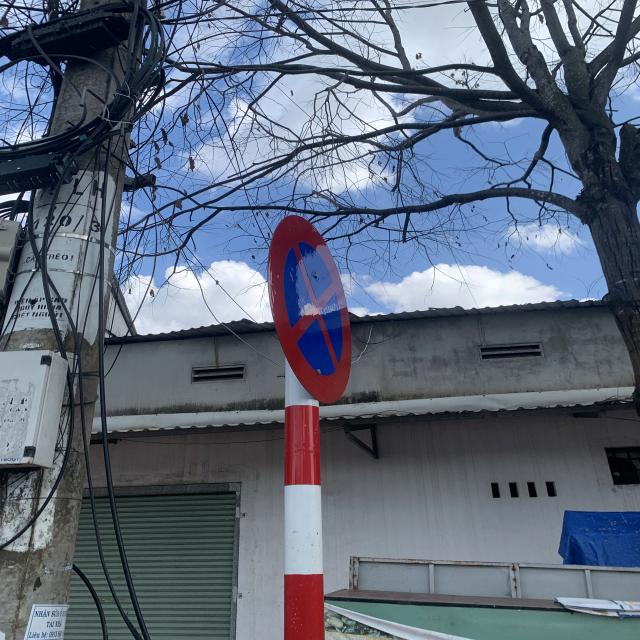Cam_Dung_Va_Dau_Xe: (268, 215, 358, 406)
